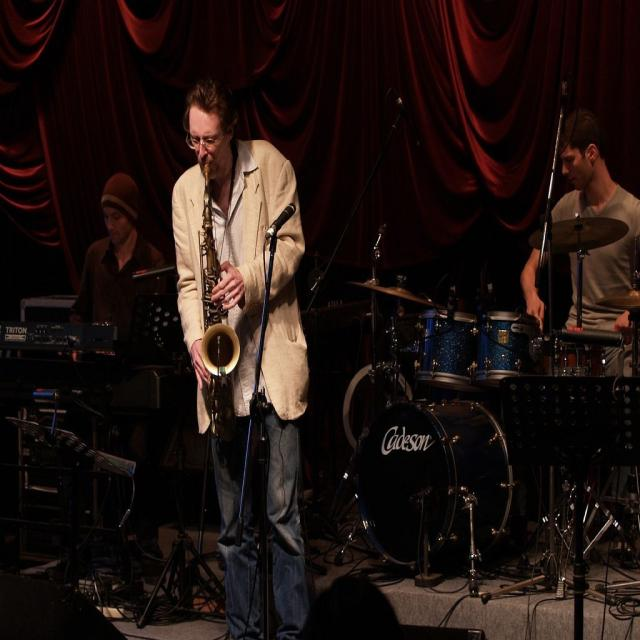drums: (334, 208, 640, 602)
saxophone: (197, 162, 241, 436)
